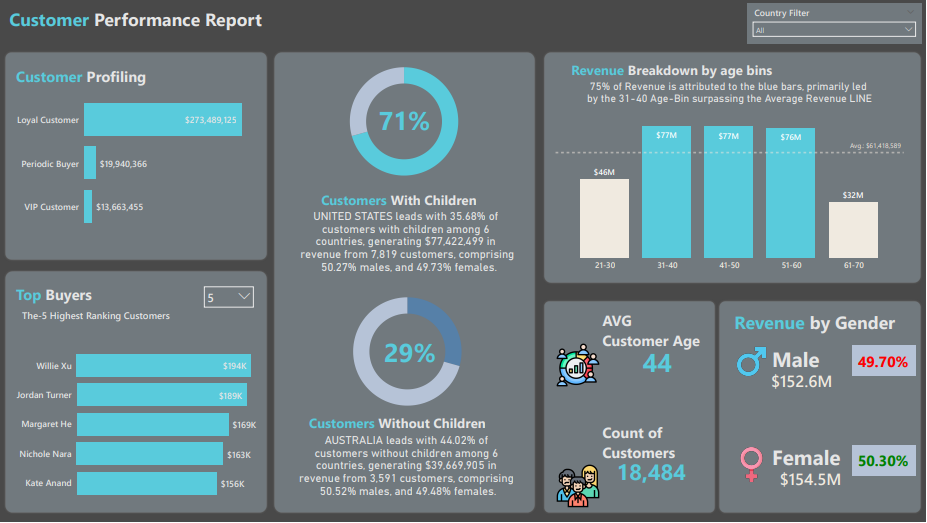

This screenshot's page, from the dashboard's own definition file:
{"tool":"powerbi","page":{"name":"customer report","canvas":[1680,950],"ordinal":0},"visuals":[{"type":"shape","box":[6,492,480,444],"z":0},{"type":"shape","box":[6,94,480,382],"z":1000},{"type":"shape","box":[984,546,316,390],"z":2000},{"type":"shape","box":[1302,546,372,390],"z":3000},{"type":"shape","box":[494,94,480,842],"z":4000},{"type":"shape","box":[984,94,690,424],"z":5000},{"type":"card","fields":{"Values":["_Measures.Average Revenue Across Age Bins Caption"]},"box":[1032,116,584,106],"z":6000},{"type":"clusteredColumnChart","fields":{"Category":["DimCustomer.AgeBins"],"Y":["_Measures.Total Revenue"]},"box":[1002.5,217.3,642.3,286.5],"z":7000},{"type":"textbox","box":[1032,106,406,56],"z":8000},{"type":"donutChart","fields":{"Y":["_Measures.Customers With Children Pct","_Measures.Customers Without Children"]},"box":[526,94,414,256],"z":9000},{"type":"textbox","box":[578,342,310,54],"z":10000},{"type":"card","fields":{"Values":["_Measures.CWC Revenue Pct"]},"box":[670,162,128,114],"z":11000},{"type":"textbox","box":[556,748,356,54],"z":12000},{"type":"card","fields":{"Values":["_Measures.CWC Revenue Caption"]},"box":[528,366,422,146],"z":13000},{"type":"card","fields":{"Values":["_Measures.CWOC Revenue Caption"]},"box":[524,776,432,140],"z":14000},{"type":"textbox","box":[1088,560,212,82],"z":15000},{"type":"card","fields":{"Values":["_Measures.Total Count of Customers"]},"box":[1084,808,196,100],"z":16000},{"type":"barChart","fields":{"Category":["DimCustomer.CustomerCategory"],"Y":["_Measures.Total Revenue"]},"box":[24,144,446,302],"z":17000},{"type":"card","fields":{"Values":["_Measures.Male Revenue"]},"box":[1380,662,150,64],"z":18000},{"type":"textbox","box":[1396,624,120,70],"z":19000},{"type":"barChart","fields":{"Category":["DimCustomer.FullName"],"Y":["_Measures.Dynamic Ranking System"]},"box":[24,610,446,318],"z":20000},{"type":"slicer","fields":{"Values":["Dynamic Ranking System.Dynamic Ranking System"]},"box":[360,512,110,66],"z":21000},{"type":"textbox","box":[1328,560,342,54],"z":22000},{"type":"textbox","box":[24,116,296,54],"z":23000},{"type":"textbox","box":[24,512,170,54],"z":24000},{"type":"card","fields":{"Values":["_Measures.Average Customer Age"]},"box":[1110,610,166,96],"z":25000},{"type":"card","fields":{"Values":["_Measures.Dynamic Ranking System Caption"]},"box":[0,550,348,52],"z":26000},{"type":"slicer","fields":{"Values":["DimGeography.Country"]},"box":[1356,8,316,74],"z":27000},{"type":"textbox","box":[12,8,502,74],"z":28000},{"type":"donutChart","fields":{"Y":["_Measures.Customers Without Children","_Measures.Customers With Children Pct"]},"box":[532,512,414,256],"z":29000},{"type":"card","fields":{"Values":["_Measures.CWOC Revenue Pct"]},"box":[680,582,128,114],"z":30000},{"type":"image","box":[1312,622,102,72],"z":31000},{"type":"image","box":[1312,810,102,72],"z":32000},{"type":"shape","box":[1546,810,116,56],"z":33000},{"type":"textbox","box":[1396,802,150,70],"z":34000},{"type":"shape","box":[1546,628,116,56],"z":35000},{"type":"card","fields":{"Values":["_Measures.Female Revenue"]},"box":[1396,840,150,64],"z":36000},{"type":"card","fields":{"Values":["_Measures.Male Revenue Pct"]},"box":[1548,638,110,42],"z":37000},{"type":"card","fields":{"Values":["_Measures.Female Revenue Pct"]},"box":[1548,818,110,42],"z":38000},{"type":"textbox","box":[1088,764,188,90],"z":39000},{"type":"image","box":[988,620,122,88],"z":40000},{"type":"image","box":[988,840,122,88],"z":41000}]}

Visuals, with their boxes in screenshot pixels (x1, y1, x2, y2), scaled from the page's 1680x950 canvas onto the 927x523 screenshot:
shape: x1=3 y1=271 x2=268 y2=515
shape: x1=3 y1=52 x2=268 y2=262
shape: x1=543 y1=301 x2=717 y2=515
shape: x1=718 y1=301 x2=924 y2=515
shape: x1=273 y1=52 x2=537 y2=515
shape: x1=543 y1=52 x2=924 y2=285
card - _Measures.Average Revenue Across Age Bins Caption: x1=569 y1=64 x2=892 y2=122
clusteredColumnChart - DimCustomer.AgeBins x _Measures.Total Revenue: x1=553 y1=120 x2=908 y2=277
textbox: x1=569 y1=58 x2=793 y2=89
donutChart - _Measures.Customers With Children Pct x _Measures.Customers Without Children: x1=290 y1=52 x2=519 y2=193
textbox: x1=319 y1=188 x2=490 y2=218
card - _Measures.CWC Revenue Pct: x1=370 y1=89 x2=440 y2=152
textbox: x1=307 y1=412 x2=503 y2=442
card - _Measures.CWC Revenue Caption: x1=291 y1=201 x2=524 y2=282
card - _Measures.CWOC Revenue Caption: x1=289 y1=427 x2=528 y2=504
textbox: x1=600 y1=308 x2=717 y2=353
card - _Measures.Total Count of Customers: x1=598 y1=445 x2=706 y2=500
barChart - DimCustomer.CustomerCategory x _Measures.Total Revenue: x1=13 y1=79 x2=259 y2=246
card - _Measures.Male Revenue: x1=761 y1=364 x2=844 y2=400
textbox: x1=770 y1=344 x2=837 y2=382
barChart - DimCustomer.FullName x _Measures.Dynamic Ranking System: x1=13 y1=336 x2=259 y2=511
slicer - Dynamic Ranking System.Dynamic Ranking System: x1=199 y1=282 x2=259 y2=318
textbox: x1=733 y1=308 x2=921 y2=338
textbox: x1=13 y1=64 x2=177 y2=94
textbox: x1=13 y1=282 x2=107 y2=312
card - _Measures.Average Customer Age: x1=612 y1=336 x2=704 y2=389
card - _Measures.Dynamic Ranking System Caption: x1=0 y1=303 x2=192 y2=331
slicer - DimGeography.Country: x1=748 y1=4 x2=923 y2=45
textbox: x1=7 y1=4 x2=284 y2=45
donutChart - _Measures.Customers Without Children x _Measures.Customers With Children Pct: x1=294 y1=282 x2=522 y2=423
card - _Measures.CWOC Revenue Pct: x1=375 y1=320 x2=446 y2=383
image: x1=724 y1=342 x2=780 y2=382
image: x1=724 y1=446 x2=780 y2=486
shape: x1=853 y1=446 x2=917 y2=477
textbox: x1=770 y1=442 x2=853 y2=480
shape: x1=853 y1=346 x2=917 y2=377
card - _Measures.Female Revenue: x1=770 y1=462 x2=853 y2=498
card - _Measures.Male Revenue Pct: x1=854 y1=351 x2=915 y2=374
card - _Measures.Female Revenue Pct: x1=854 y1=450 x2=915 y2=473
textbox: x1=600 y1=421 x2=704 y2=470
image: x1=545 y1=341 x2=612 y2=390
image: x1=545 y1=462 x2=612 y2=511
